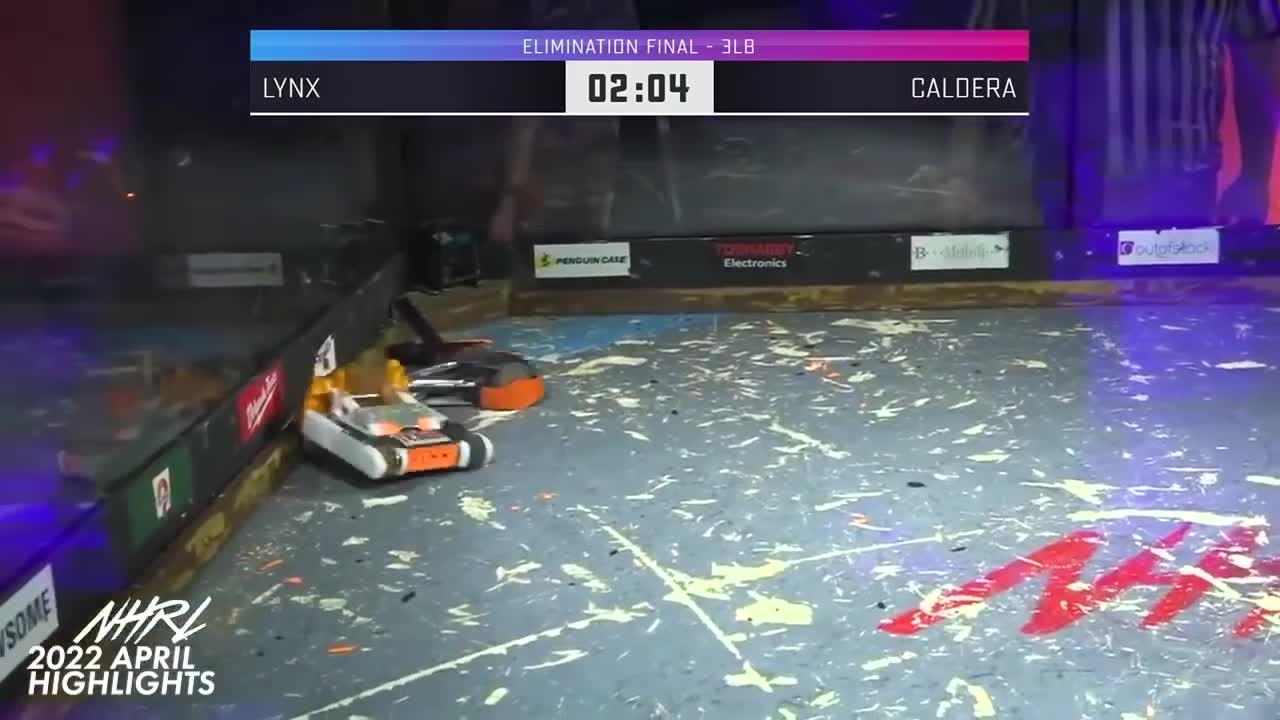combatbot: (298, 393, 493, 485), (390, 346, 549, 413)
